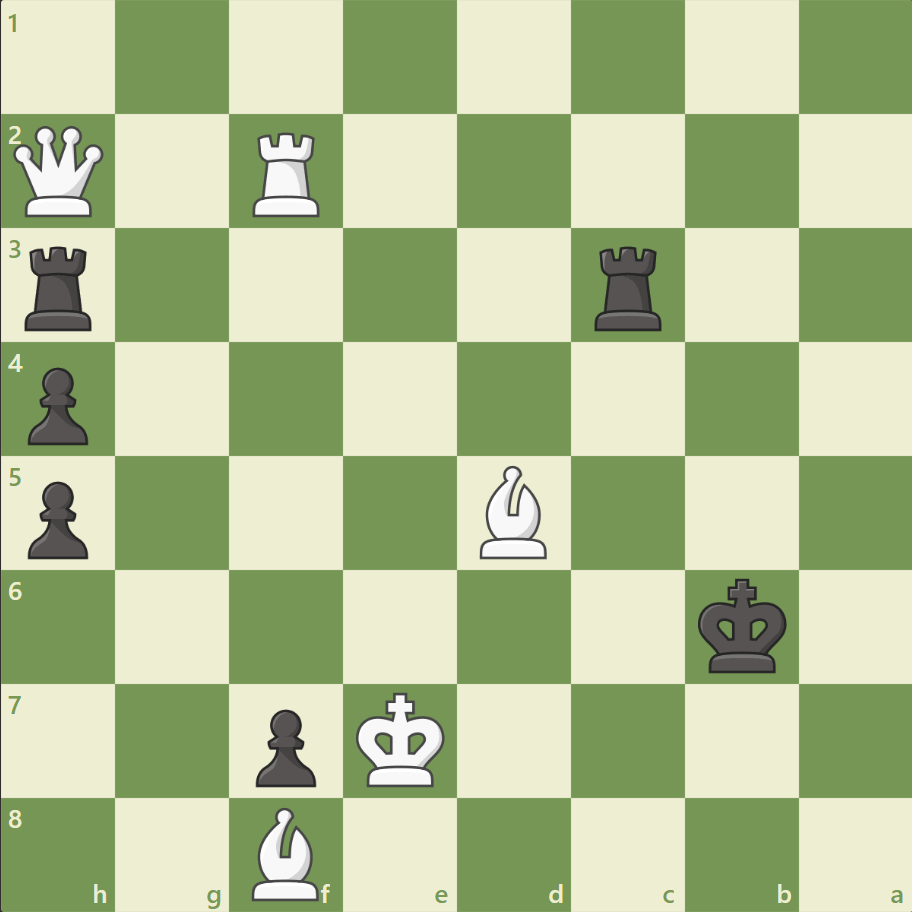B: (244, 801, 328, 904), (471, 460, 555, 563)
K: (351, 685, 451, 793)
Q: (10, 122, 109, 222)
R: (246, 125, 329, 222)
k: (692, 571, 792, 679)
p: (247, 700, 322, 791), (20, 473, 95, 564), (20, 359, 95, 450)
r: (587, 239, 670, 336), (19, 239, 102, 336)
